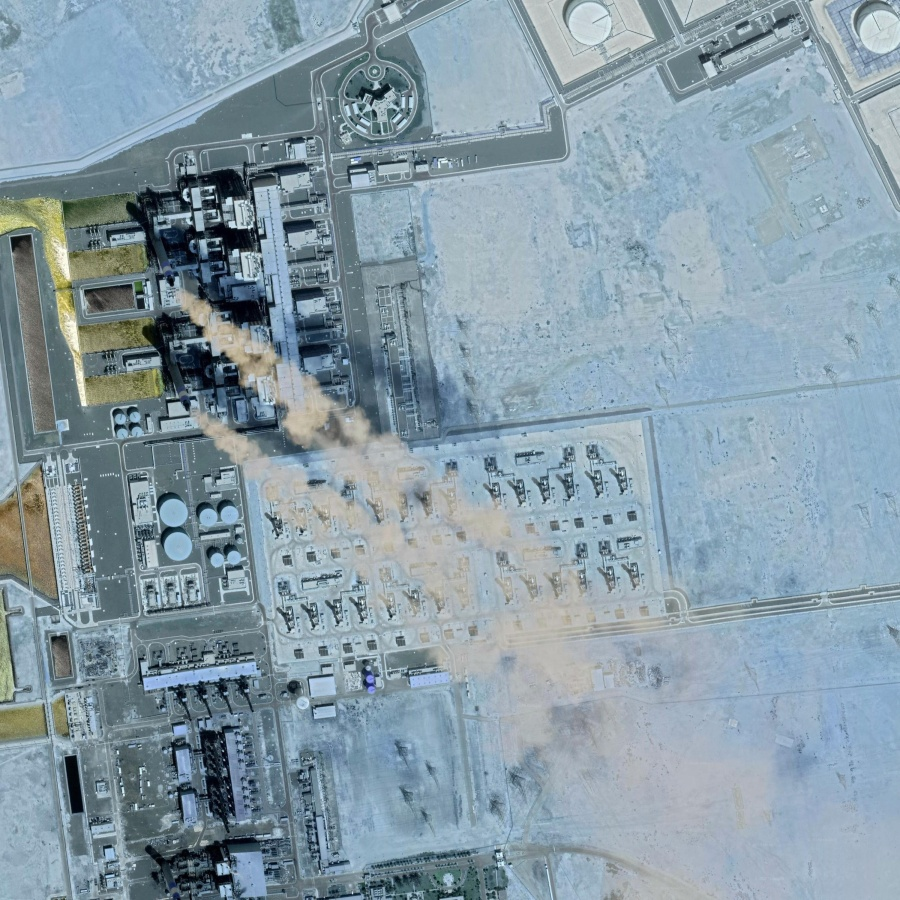PowerPlant: (47, 155, 490, 563)
